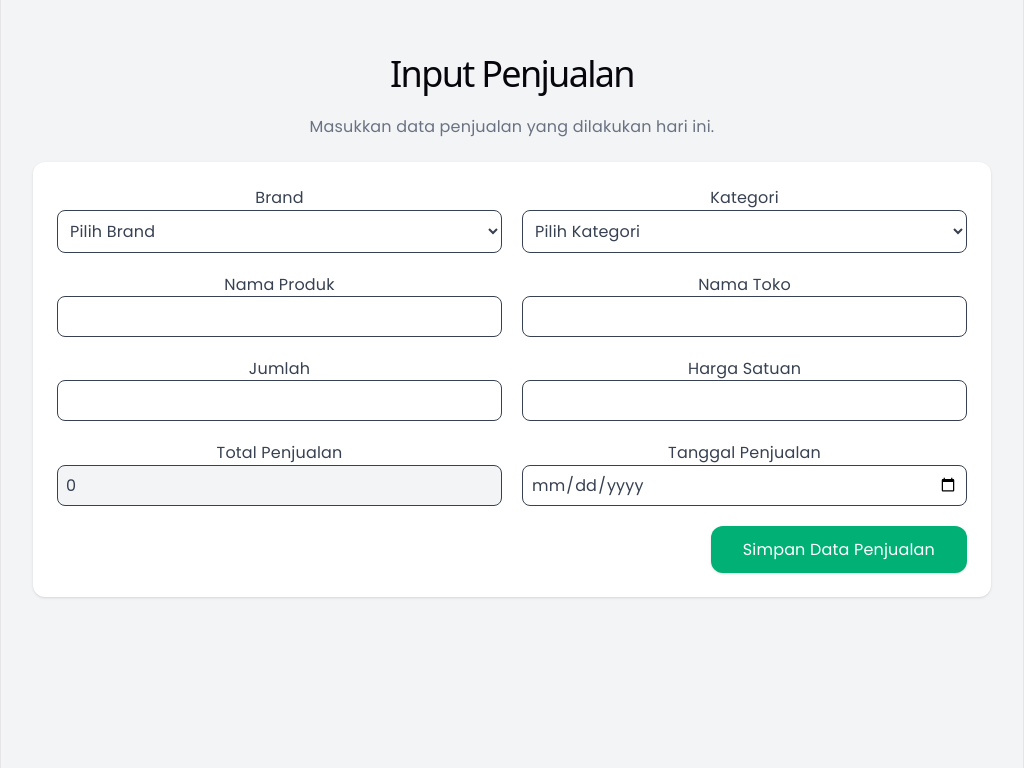
Test: White Box Testing - Input Penjualan HEBEPKU › WB-IP04: menghitung total berdasarkan jumlah dan harga
The image size is (1024, 768).
Step 1. Type "3" into the number field below "Jumlah" → (280, 401), box left=57, top=380, right=502, bottom=421
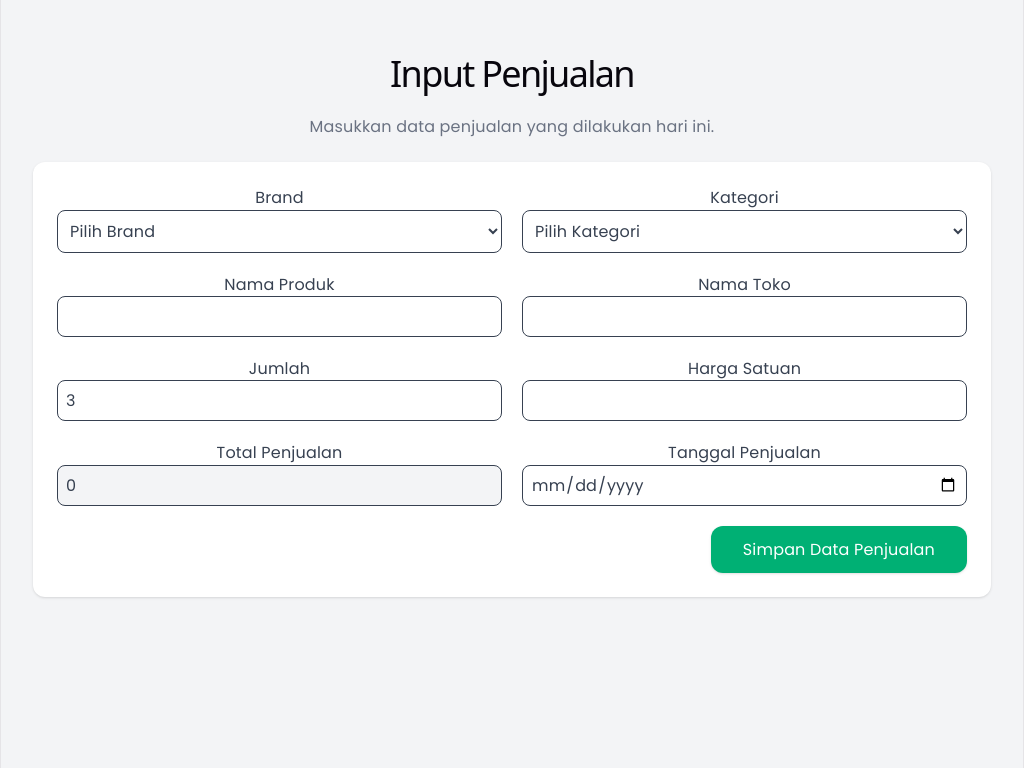
Step 2. Type "50000" into the number field below "Harga Satuan" → (744, 401), box left=522, top=380, right=967, bottom=421
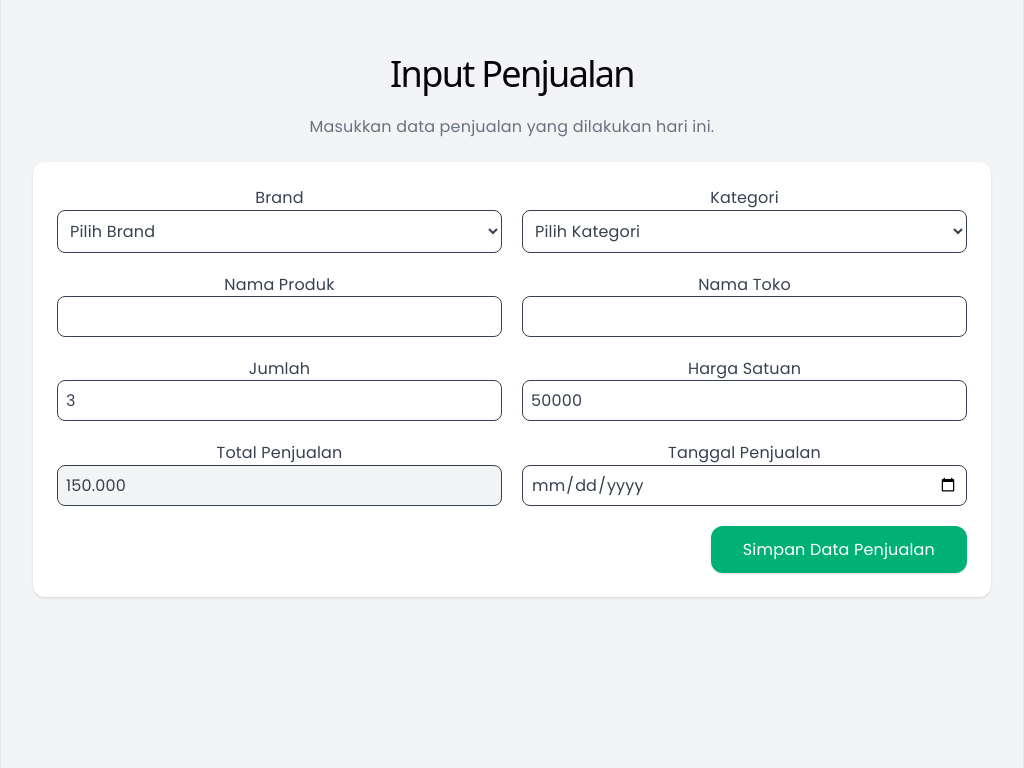
Now the field below "Total Penjualan" holds "150.000", box left=57, top=465, right=502, bottom=506
